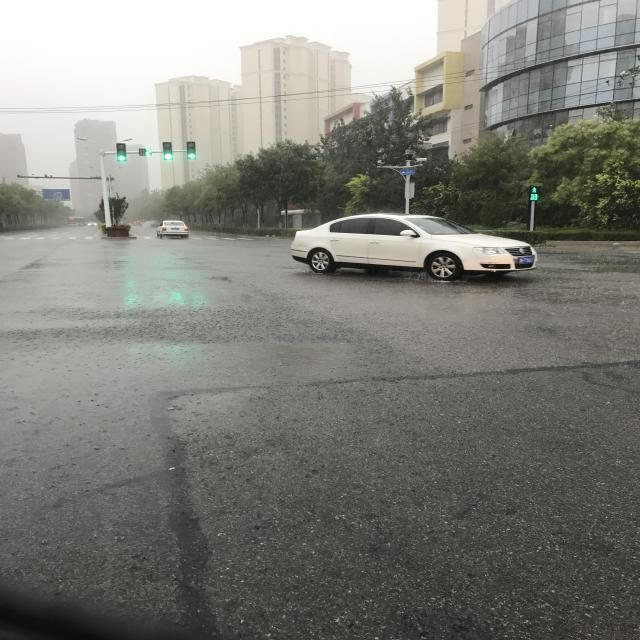car: (208, 98, 279, 369), (218, 450, 241, 486), (217, 495, 227, 508), (218, 541, 228, 553)
